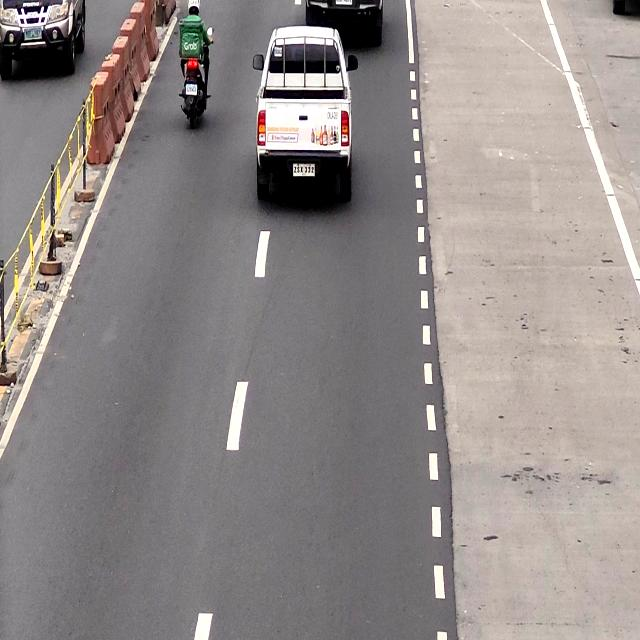Car: (256, 27, 352, 204), (302, 0, 384, 46)
License-Plate: (290, 162, 318, 180), (185, 82, 198, 93)
Motorcycle: (178, 0, 210, 127)
